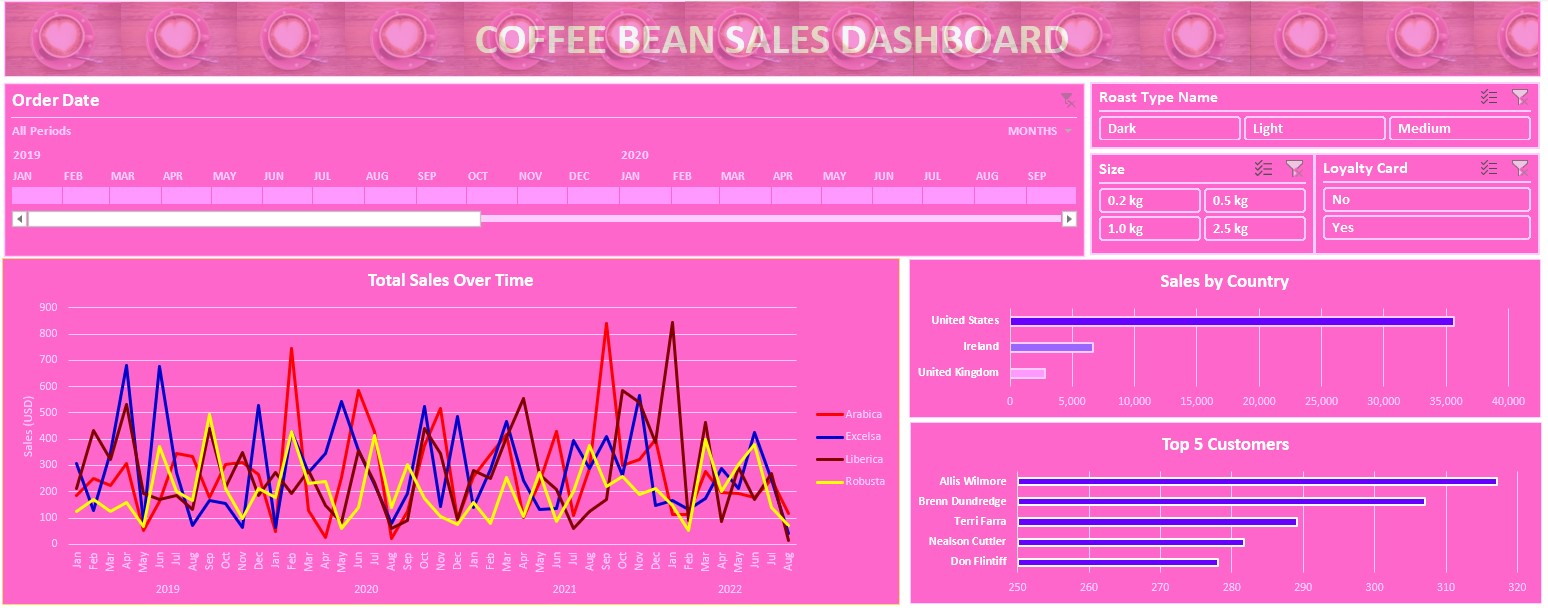

The dashboard page shown, as its layout file describes it:
{"tool":"powerbi","page":{"name":"Page 1","canvas":[1280,720],"ordinal":0},"visuals":[{"type":"lineChart","title":"Total Sales Over Time","fields":{"Category":["orders.Order Date.Variation.Date Hierarchy.Year","orders.Order Date.Variation.Date Hierarchy.Month"],"Y":["orders.Sales"],"Series":["orders.Coffee Type Name"]},"box":[34.7,196.8,697.2,454.5],"z":0},{"type":"treemap","title":"Sales by Country","fields":{"Group":["orders.Country"],"Values":["orders.Sales"]},"box":[731.8,256.7,328,199.6],"z":1000},{"type":"barChart","title":"Top 5 Customers","fields":{"Category":["orders.Customer Name"],"Y":["orders.Sales"]},"box":[731.8,456.3,328,194.9],"z":2000},{"type":"slicer","fields":{"Values":["orders.Roast Type Name"]},"box":[731.8,120.9,191.2,116.2],"z":3000},{"type":"slicer","fields":{"Values":["orders.Size"]},"box":[923,10.3,136.8,148.1],"z":4000},{"type":"slicer","fields":{"Values":["orders.Loyalty Card"]},"box":[923,160.2,136.8,85.3],"z":5000},{"type":"Timeline1447991079100","title":"Order Date","fields":{"Time":["orders.Order Date"]},"box":[34.7,10.3,678.4,186.5],"z":6000},{"type":"card","fields":{"Values":["orders.Sales"]},"box":[713.1,0,209.9,104],"z":7000},{"type":"actionButton","box":[0,0,100,40],"z":8000}]}

Visuals, with their boxes on the page's 1280x720 design canvas (x1, y1, x2, y2). These are canvas units, not pixel positions in the 1548x608 screenshot, which may show the page scaled, cropped or inside an application window:
"Total Sales Over Time" lineChart: (35,197,732,651)
"Sales by Country" treemap: (732,257,1060,456)
"Top 5 Customers" barChart: (732,456,1060,651)
slicer - orders.Roast Type Name: (732,121,923,237)
slicer - orders.Size: (923,10,1060,158)
slicer - orders.Loyalty Card: (923,160,1060,246)
"Order Date" Timeline1447991079100: (35,10,713,197)
card - orders.Sales: (713,0,923,104)
actionButton: (0,0,100,40)
